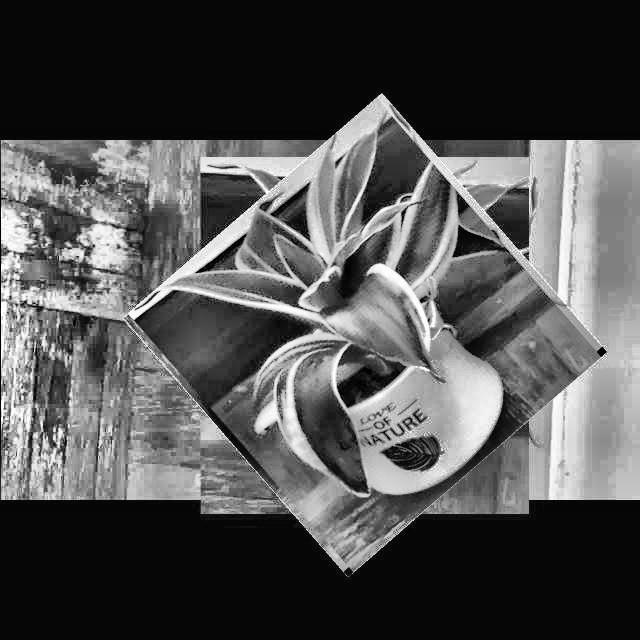plants: (158, 129, 571, 542)
